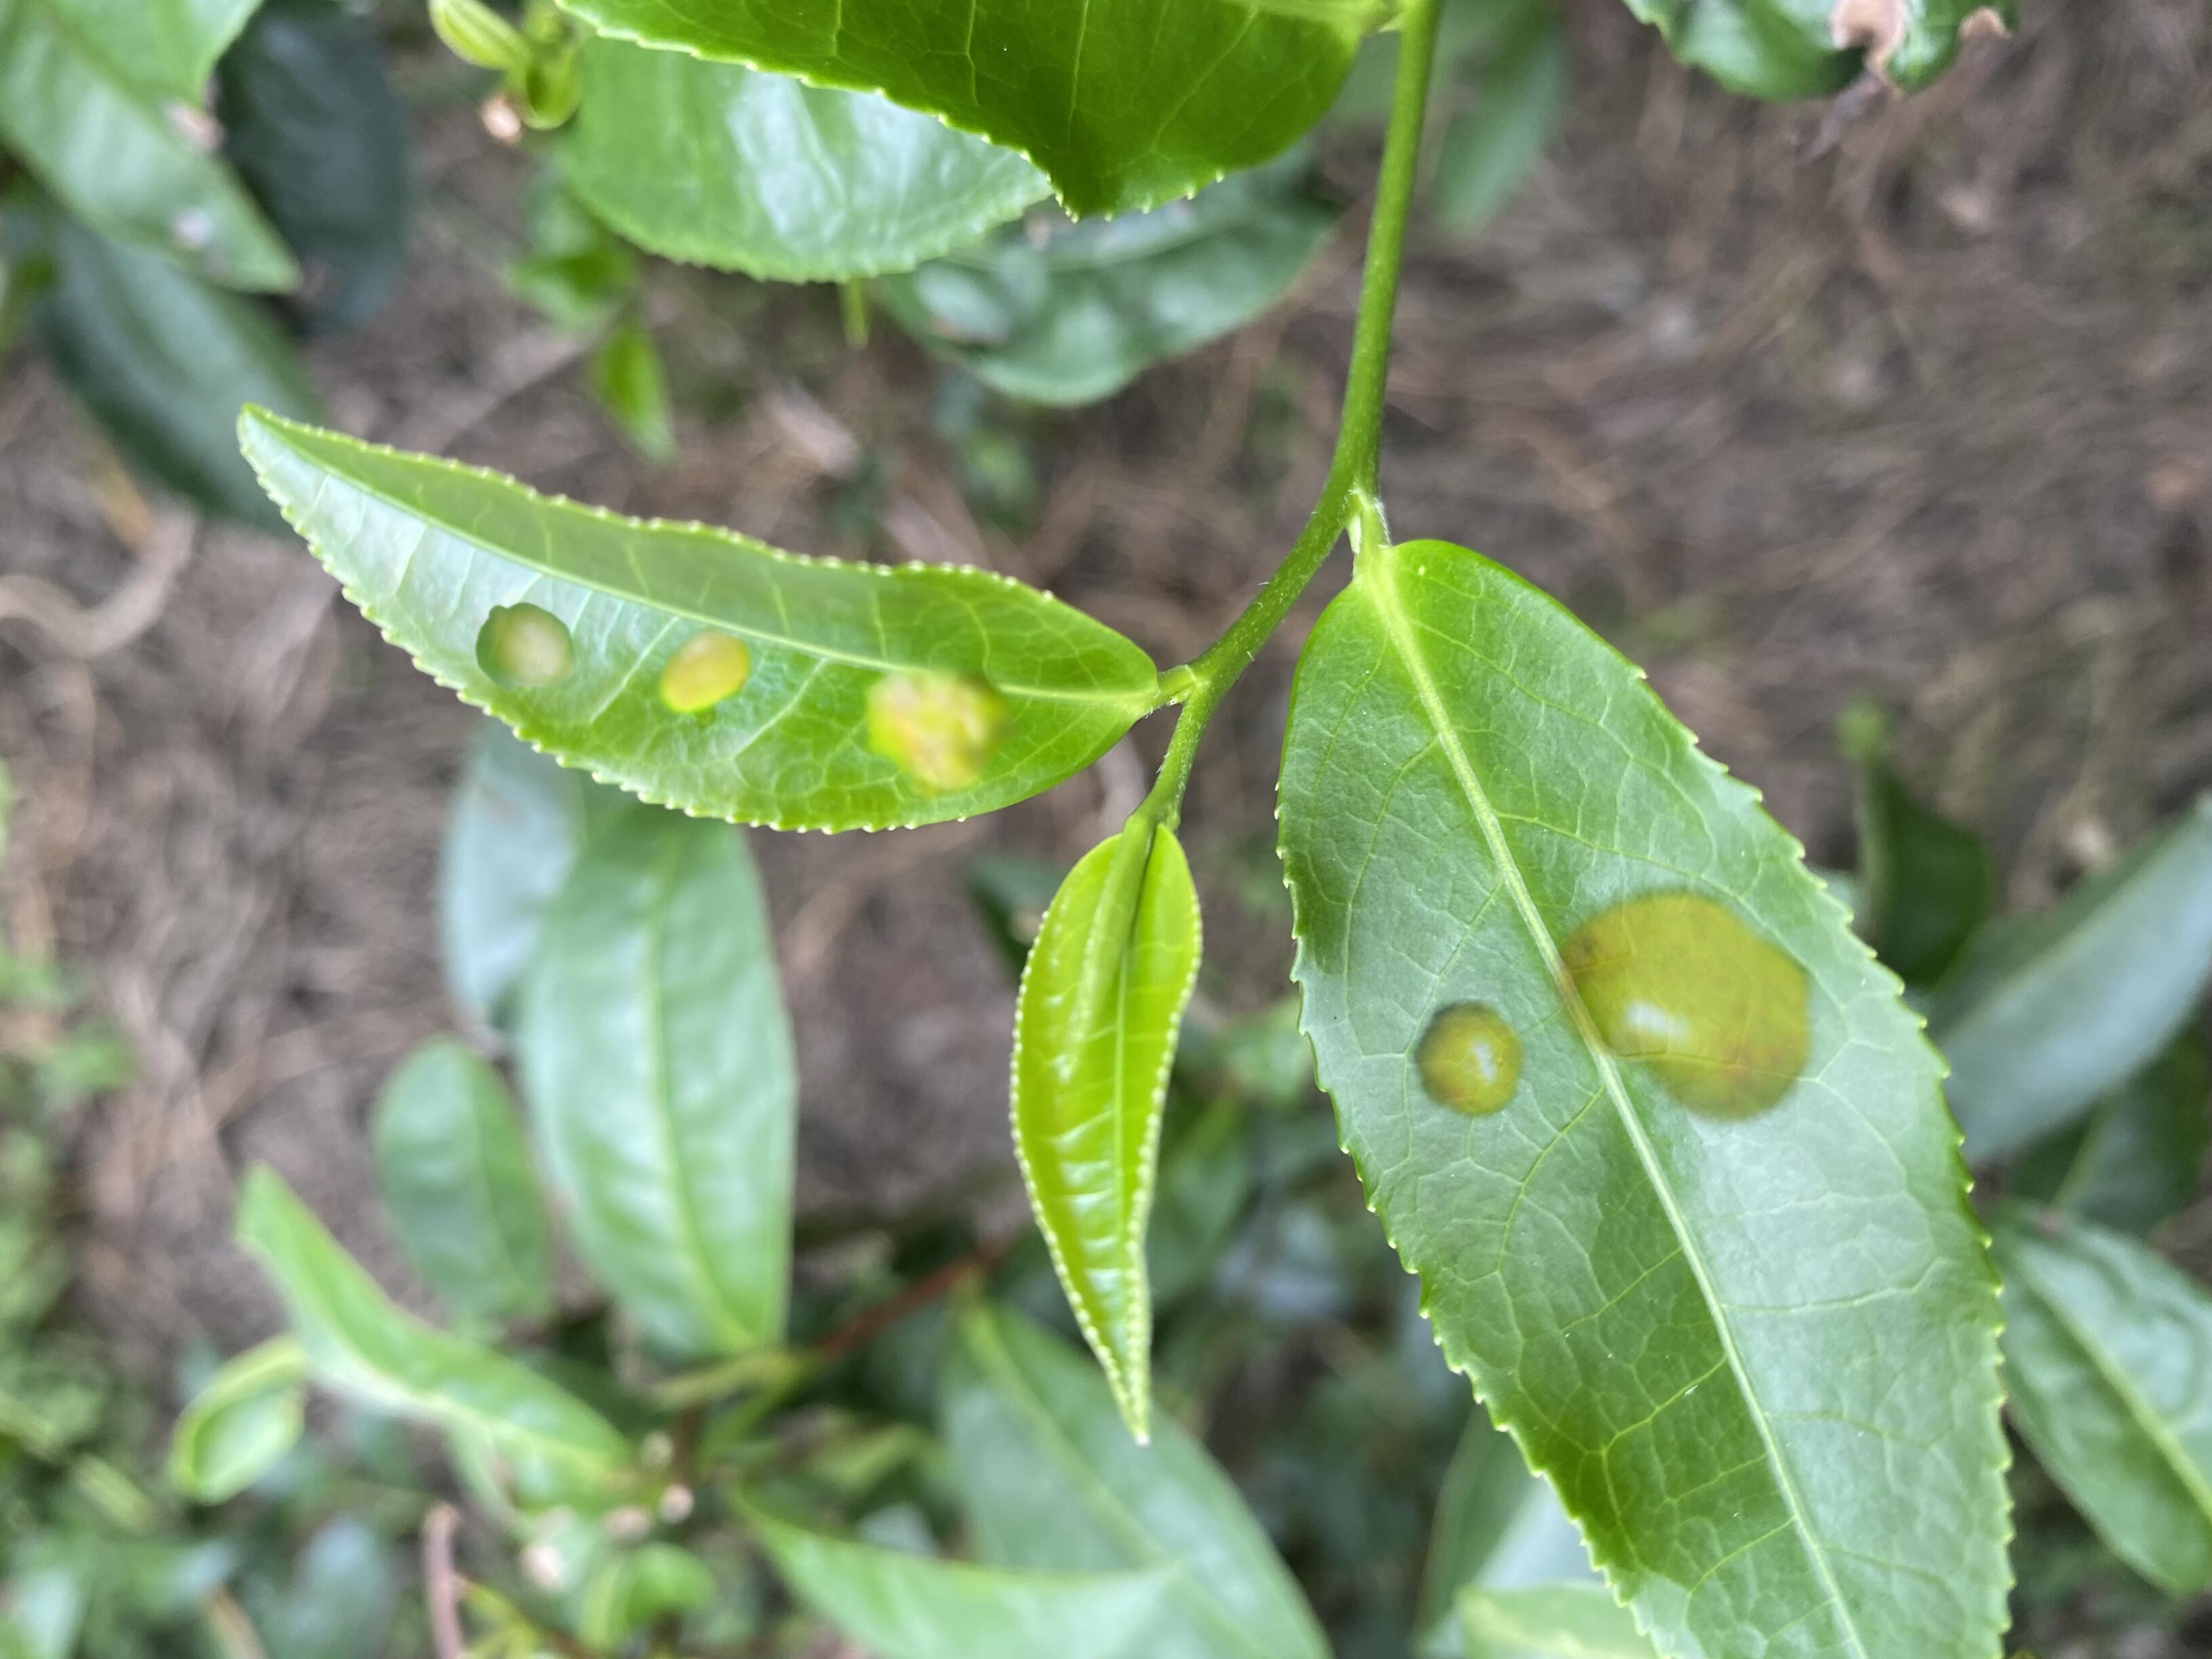chabing_high: (1271, 537, 2019, 1656), (235, 399, 1160, 836)
healthy: (1008, 829, 1204, 1446)
